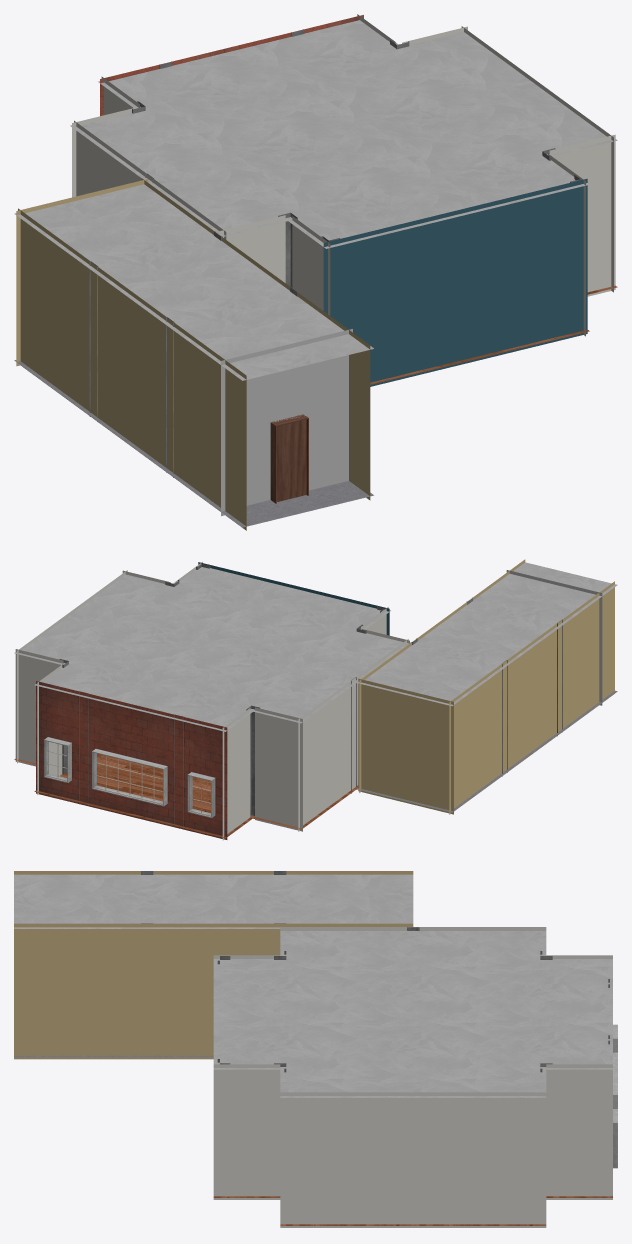
The picture shows the model from 3 angles, top to bottom: view 1: azimuth 30°, elevation 25°; view 2: azimuth 150°, elevation 25°; view 3: azimuth 270°, elevation 25°; orthographic projection. The views are drawn at different scales.
Visible parts, largest first — view 1: ConfRoom; view 2: ConfRoom; view 3: ConfRoom.
Boxes of the visible parts, x1,y1,x2,y2 form: ConfRoom: (14, 14, 617, 530); ConfRoom: (14, 559, 617, 840); ConfRoom: (14, 871, 617, 1227).
Size of the model in its own units: 16 by 4.5 by 18.15.
1 material, 1 textured.
